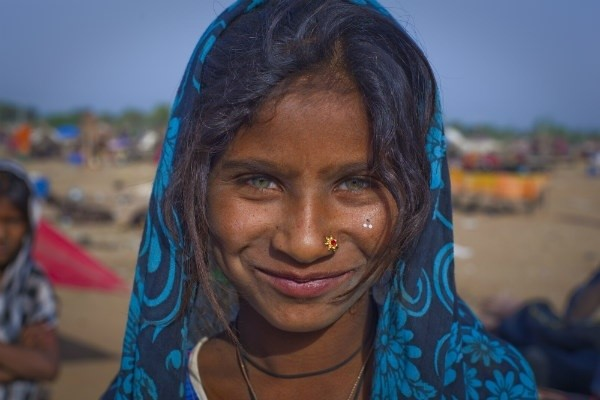face_no_mask: (185, 13, 431, 339)
